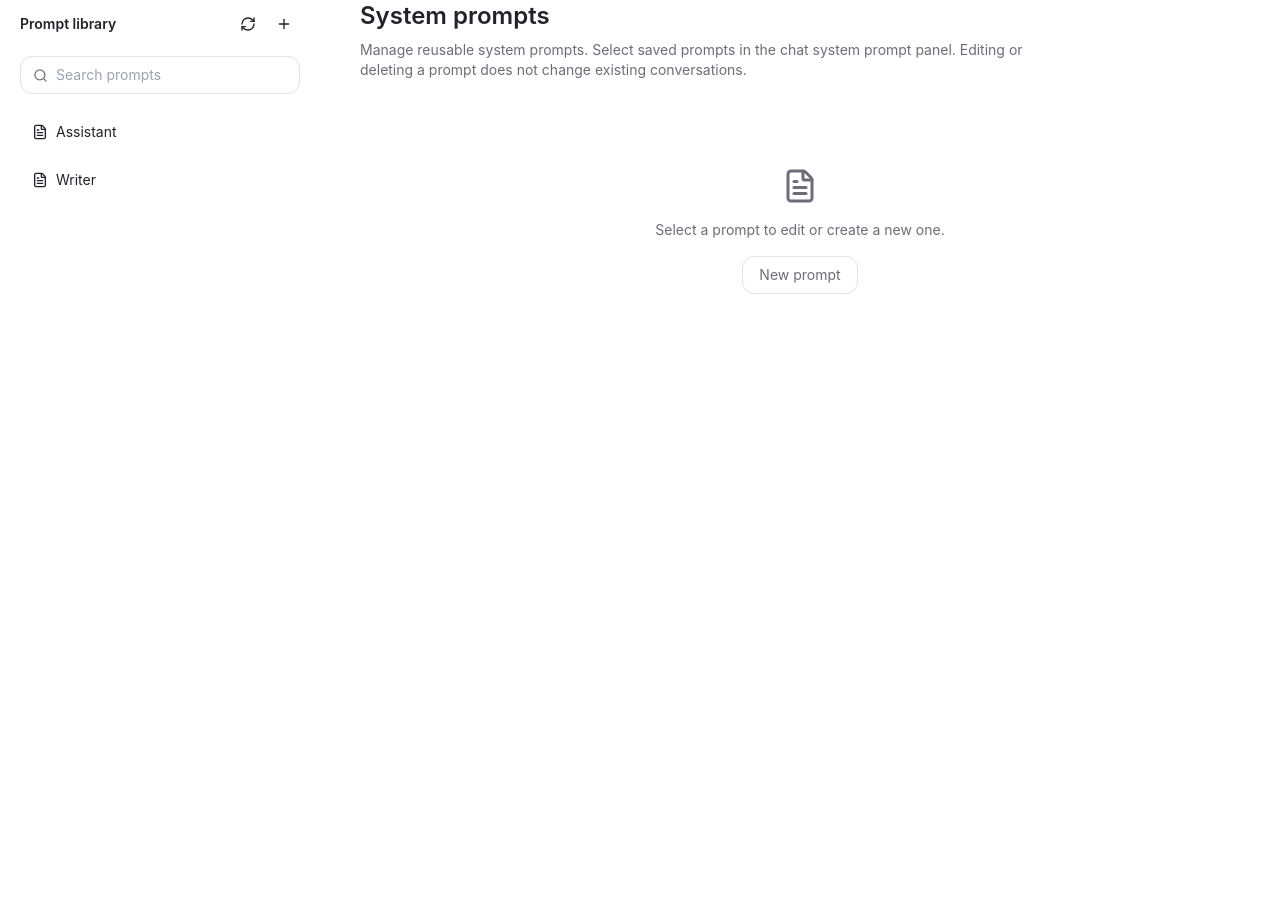
Test case: system prompt management › asks before discarding edits and can revert changes
The width and height of the screenshot is (1280, 900).
Click the button "Assistant" at [86, 132], box [20,110,300,154]
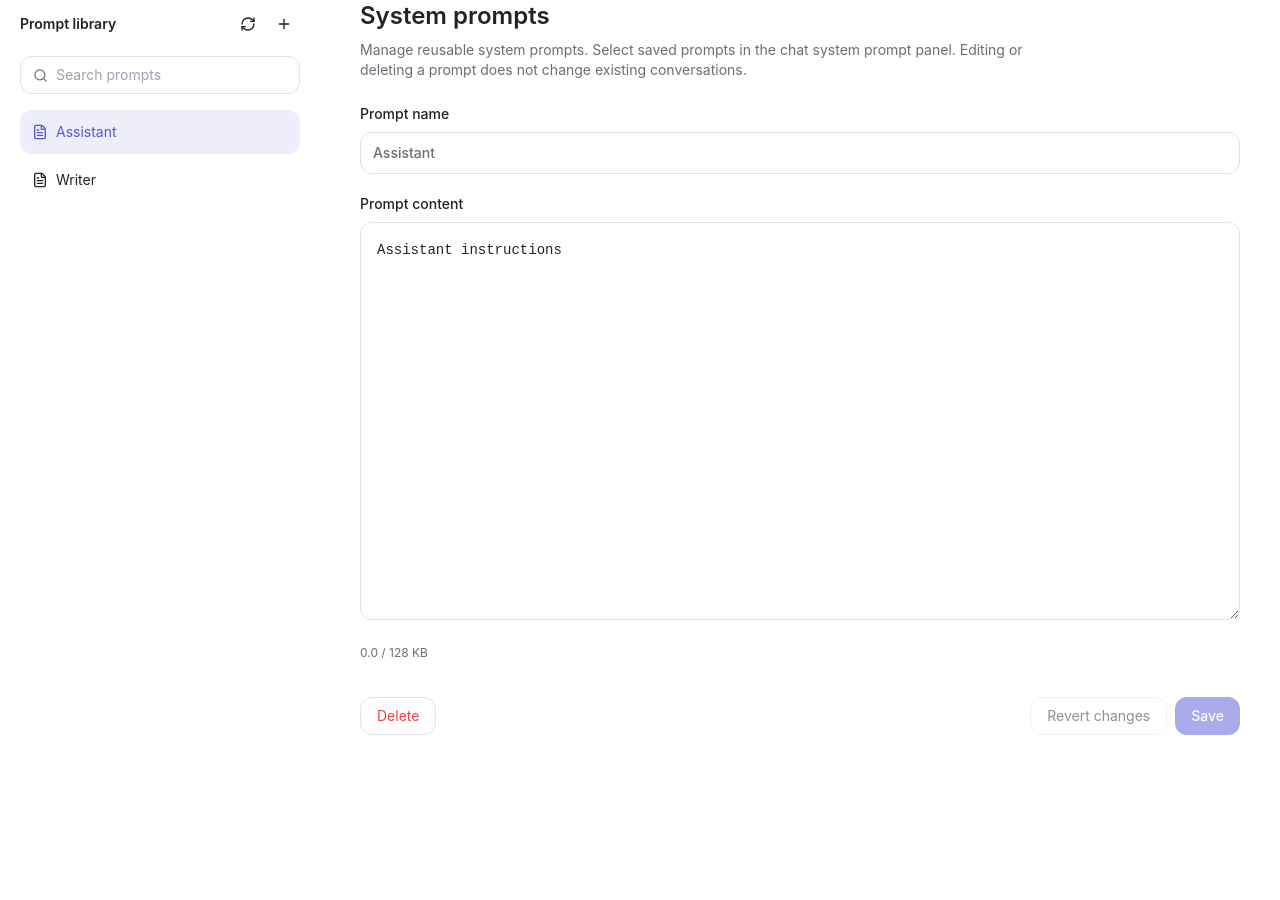
Type " changed" into the text box labelled "Prompt content" at [800, 421], box [360,222,1240,620]
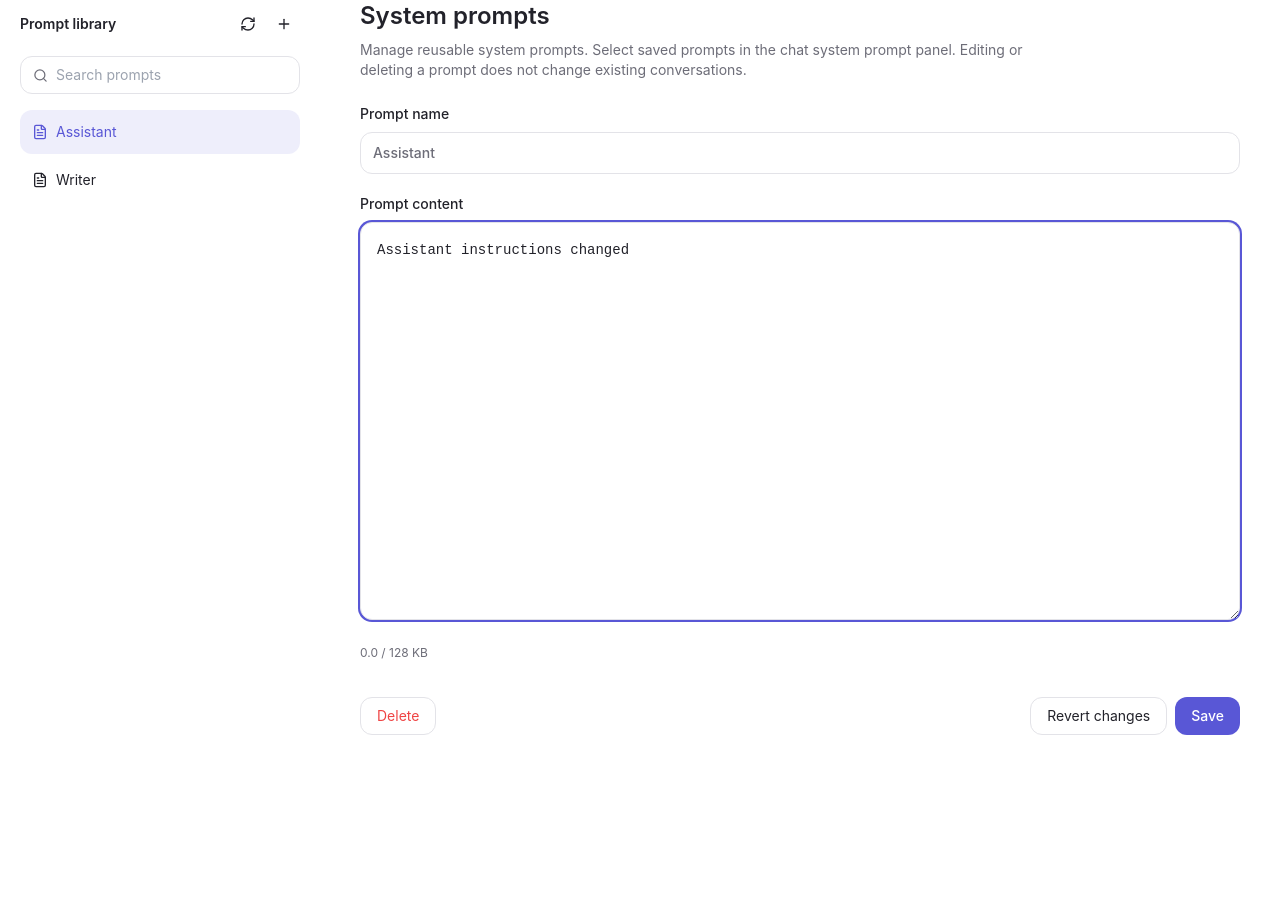
Click the button "Writer" at [76, 180], box [20,158,300,202]
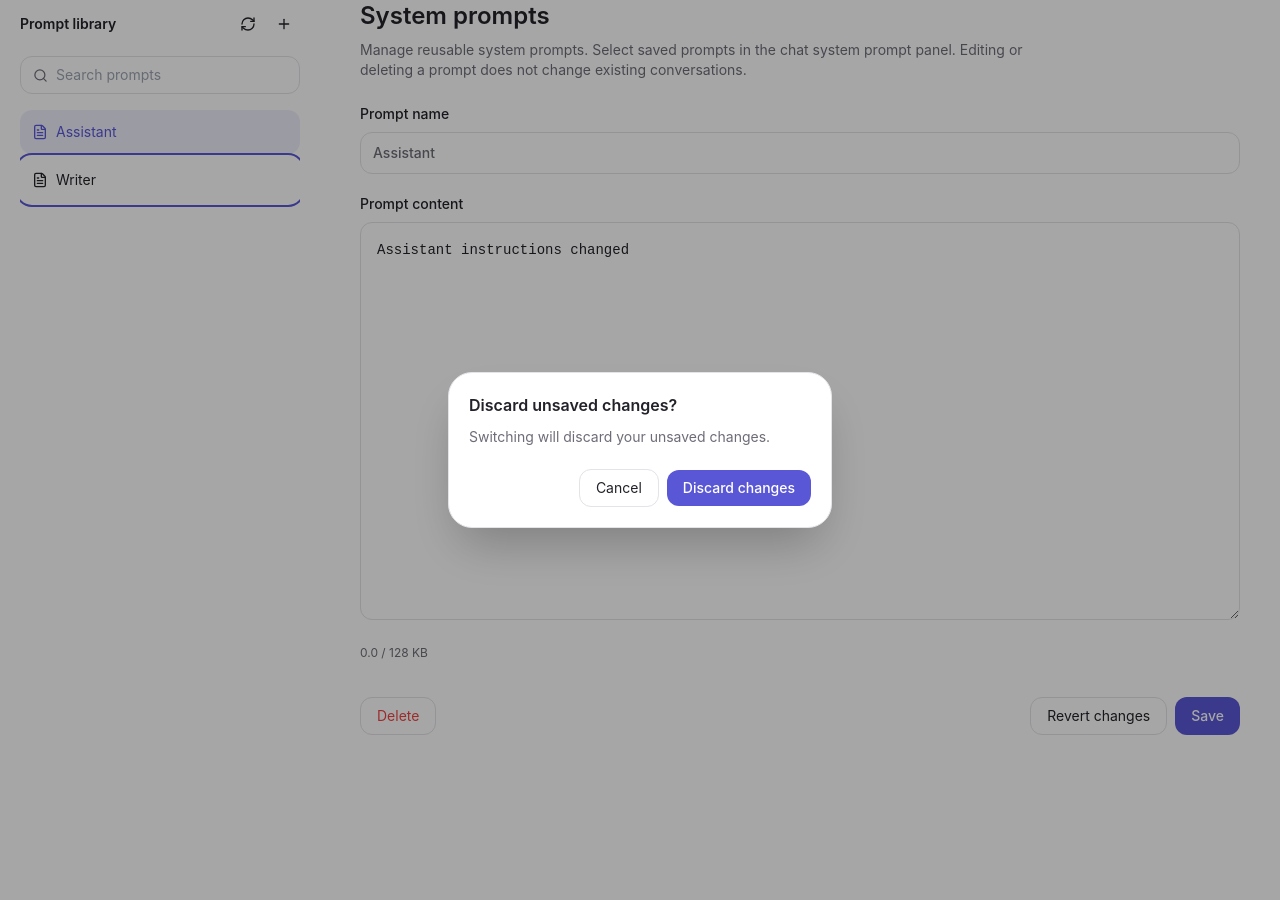
Expected: the dialog shows "Discard unsaved changes?", [469,395,677,415]
Click the button "Cancel" at [619, 488], box [579,469,659,507]
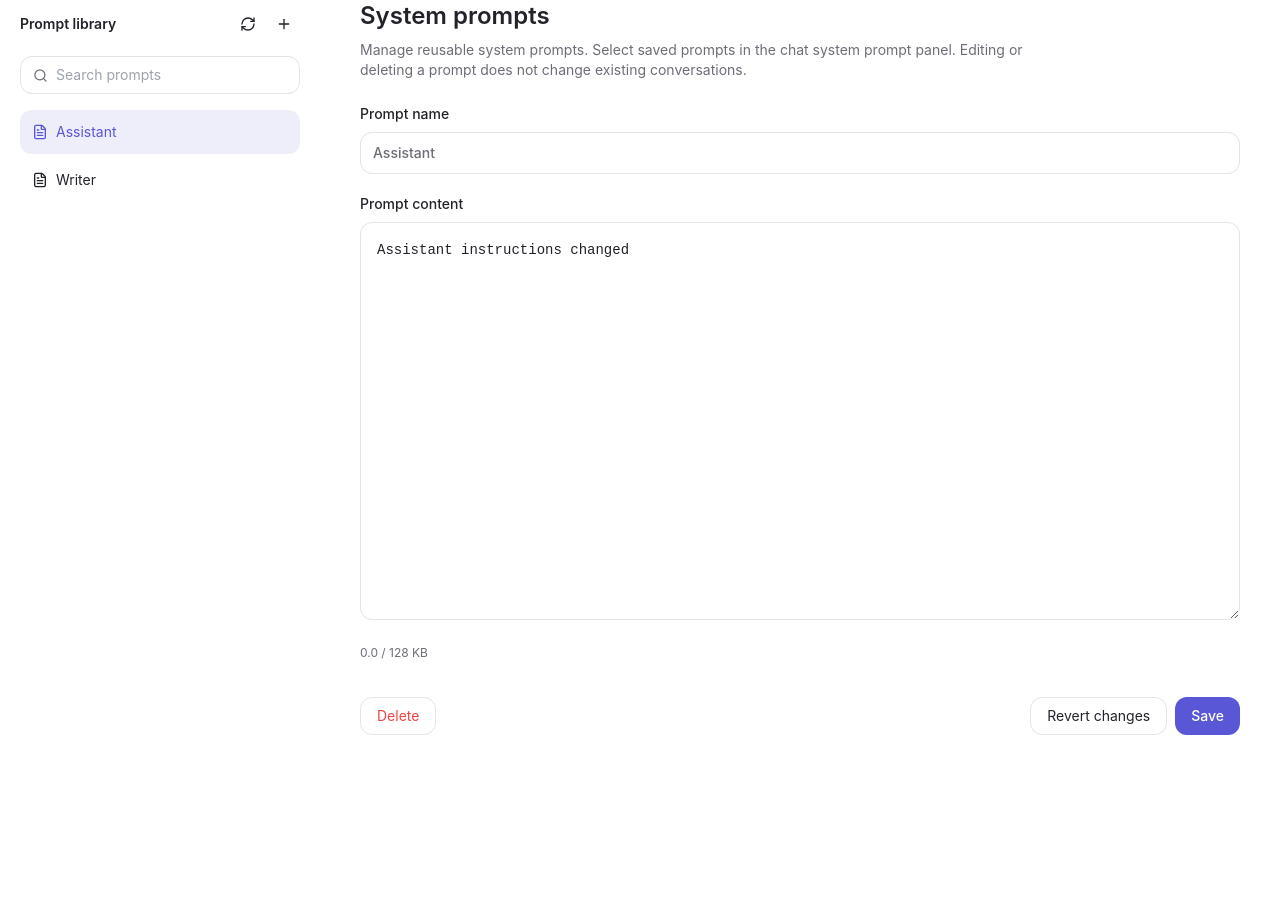
Expected: the text box showing "Assistant instructions changed" is shown, [360,222,1240,620]
Click the button "Revert changes" at [1099, 716], box [1030,697,1167,735]
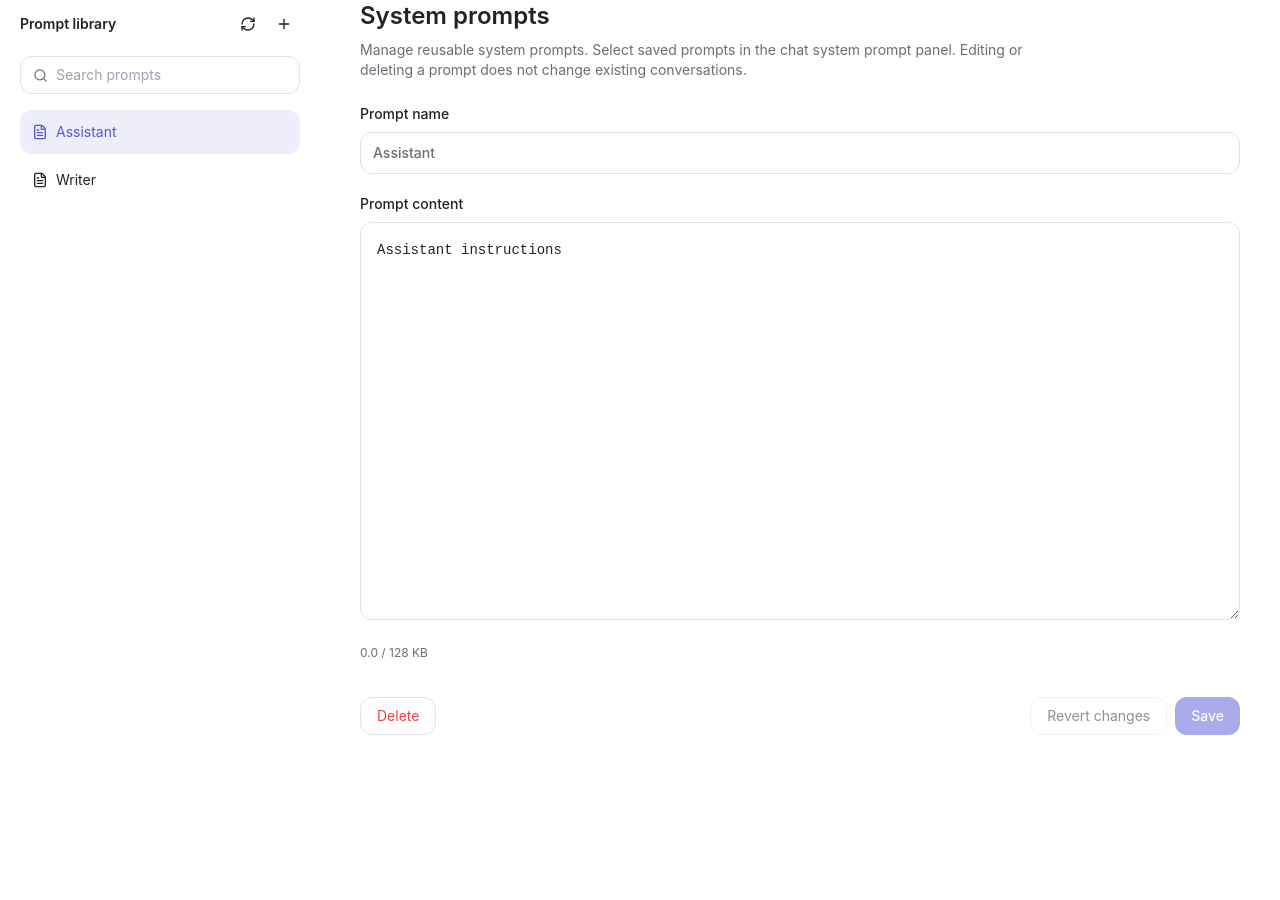
Expected: the text box showing "Assistant instructions" is shown, [360,222,1240,620]
Click the button "Writer" at [76, 180], box [20,158,300,202]
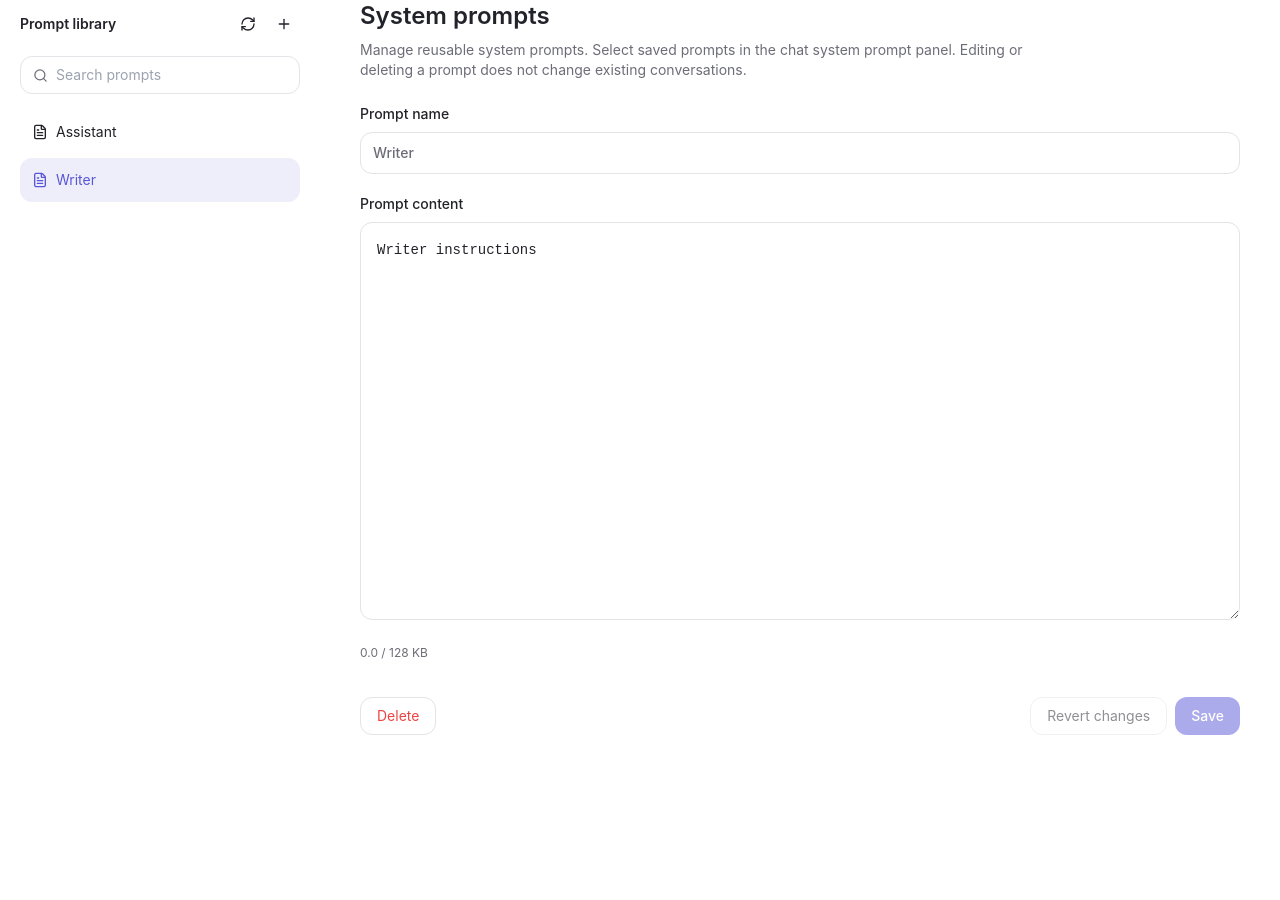
Expected: the text box showing "Writer instructions" is shown, [360,222,1240,620]
